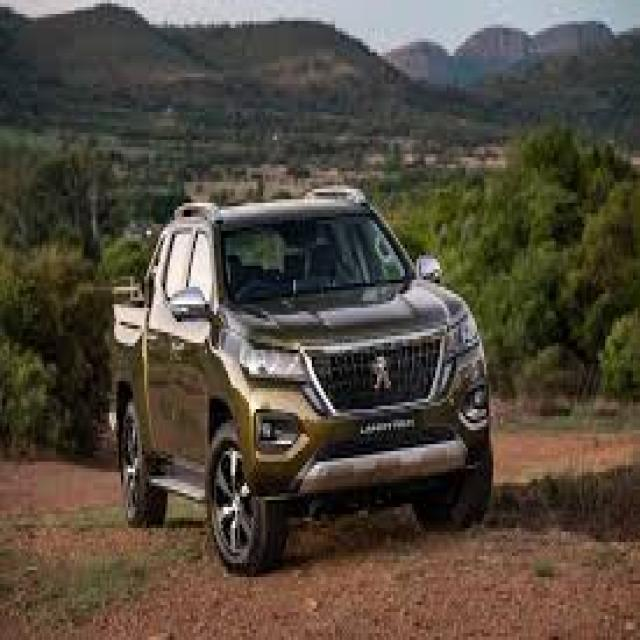Pickup Trucks: (112, 192, 493, 577)
